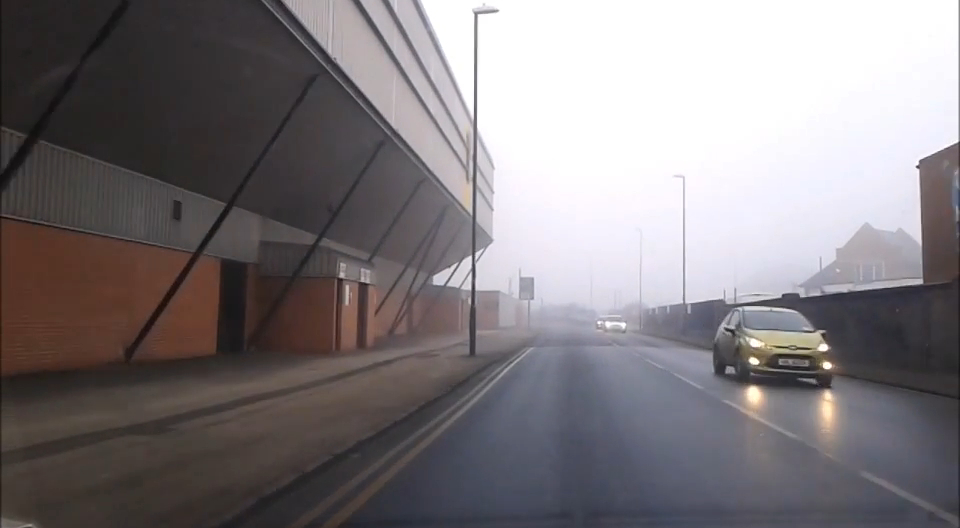car: (716, 305, 838, 390), (604, 314, 627, 333), (595, 315, 611, 329)
